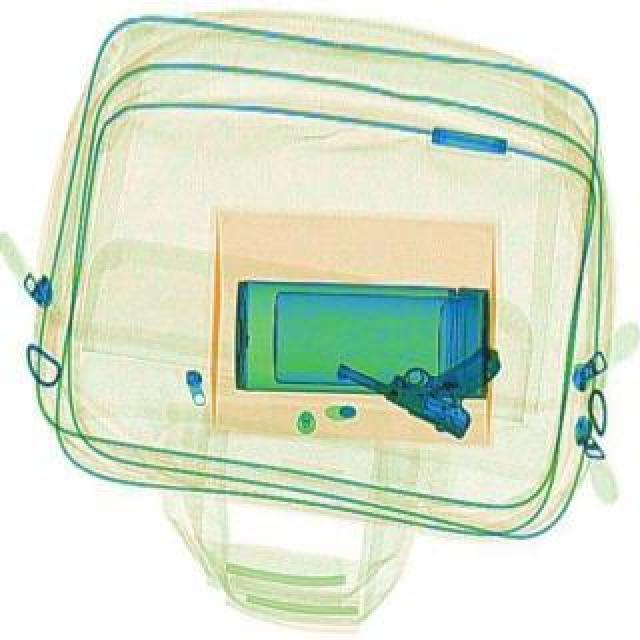gun: (330, 290, 510, 438)
